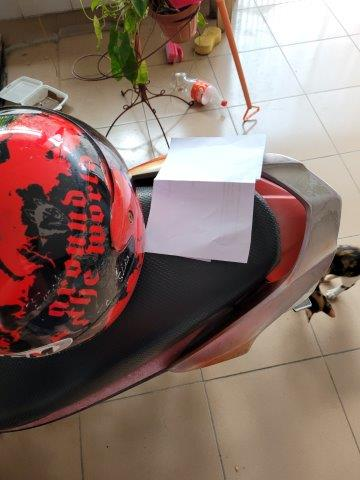botolplastik: (171, 73, 227, 108)
kertas: (141, 135, 268, 264)
